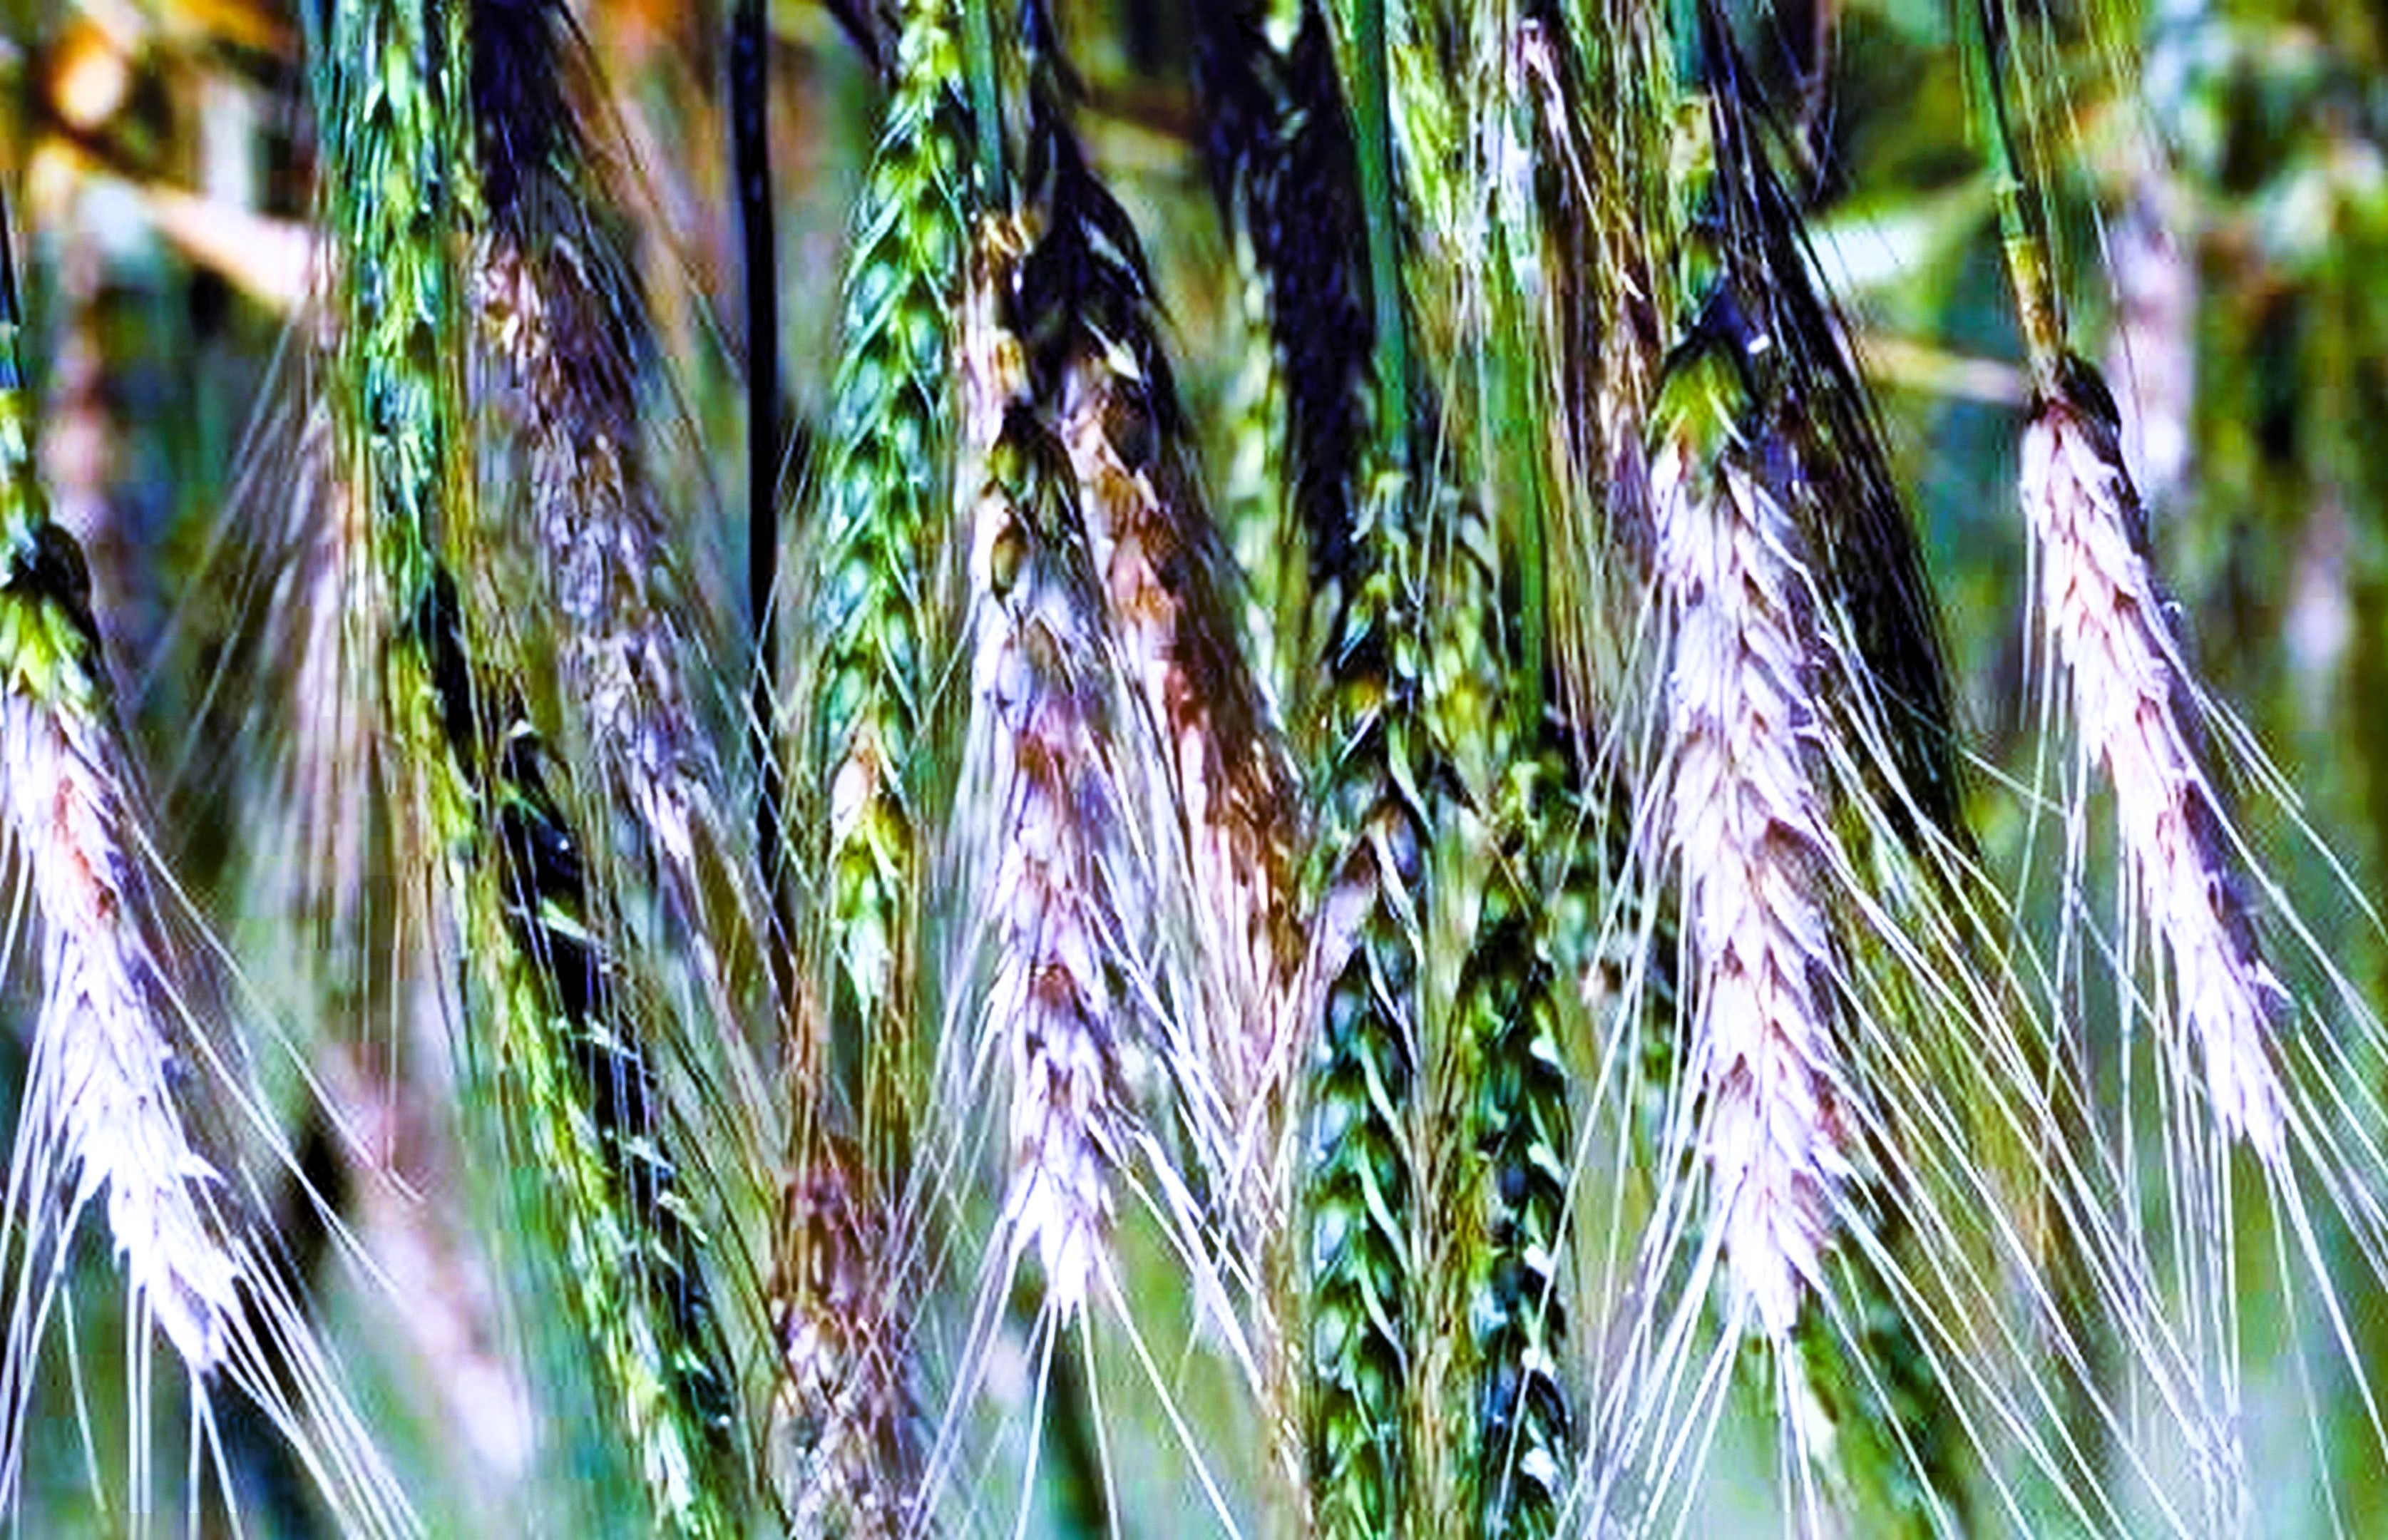Wheat scab: (1634, 336, 1890, 1336), (0, 513, 244, 1366)
